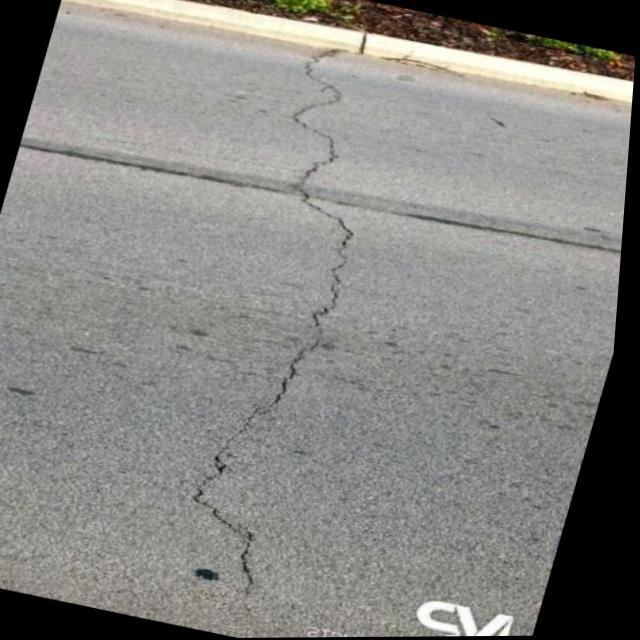Crack: (212, 205, 412, 447), (146, 402, 340, 604), (232, 103, 422, 268), (259, 47, 378, 161)
